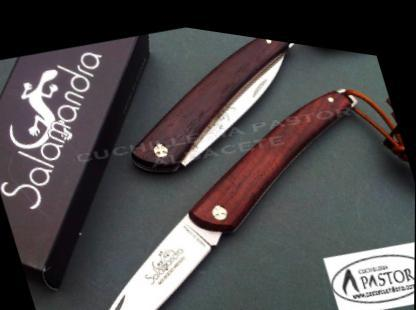knife: (39, 169, 254, 307)
